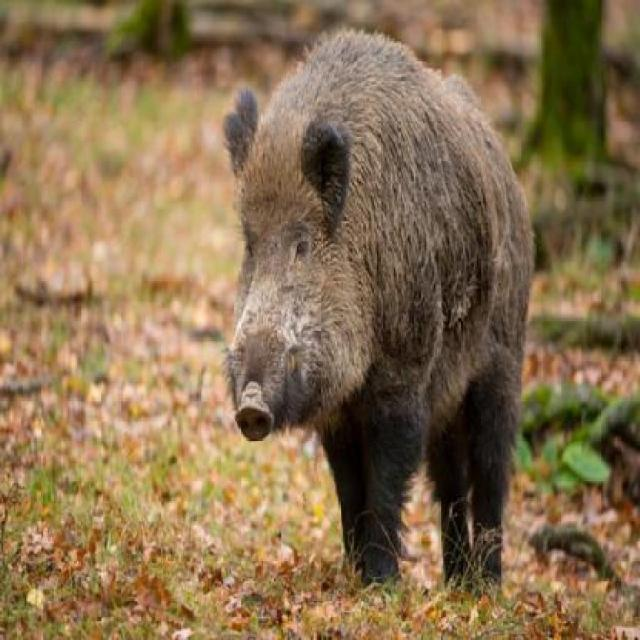wildboar: (219, 25, 538, 606)
